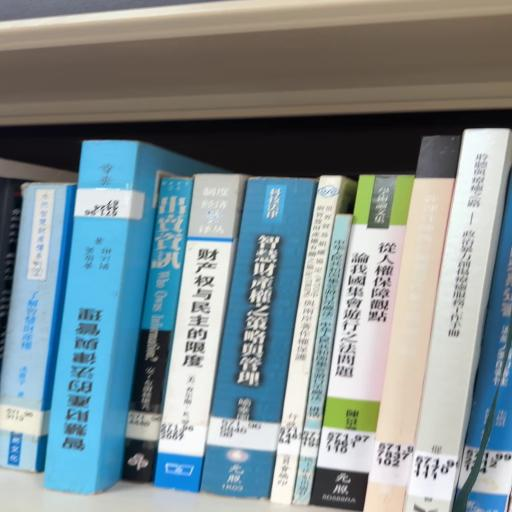reverse: (45, 141, 225, 495)
